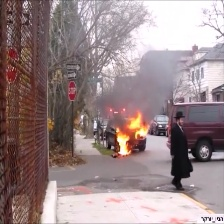fire: (108, 109, 151, 158)
